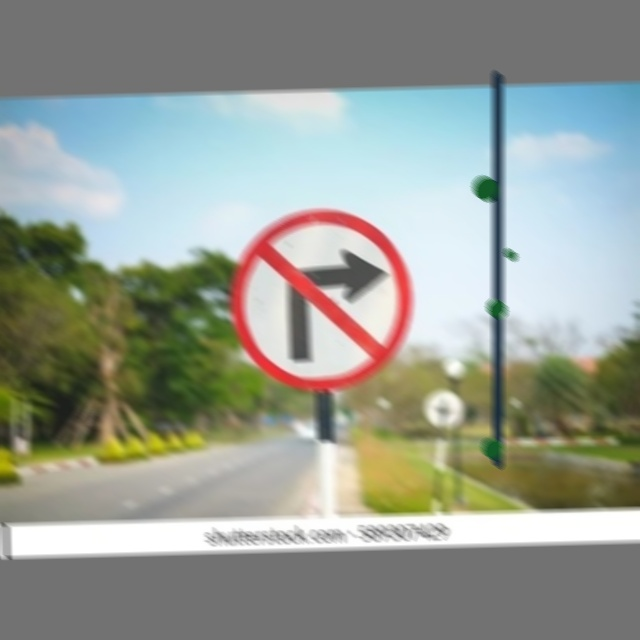Right_Turn_Prohibited: (228, 207, 416, 395)
